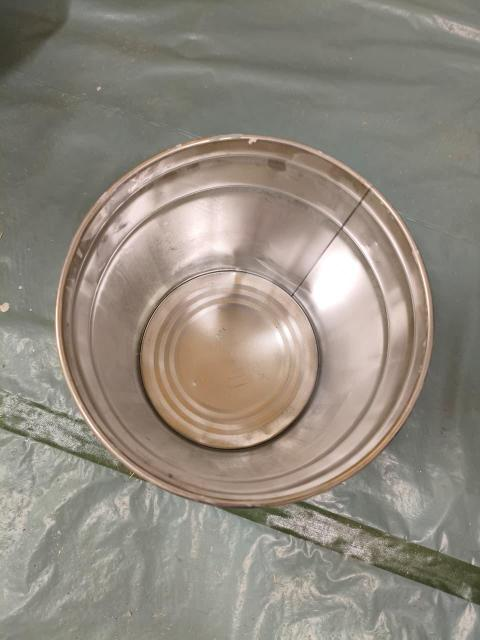Metal: (60, 135, 443, 513)
